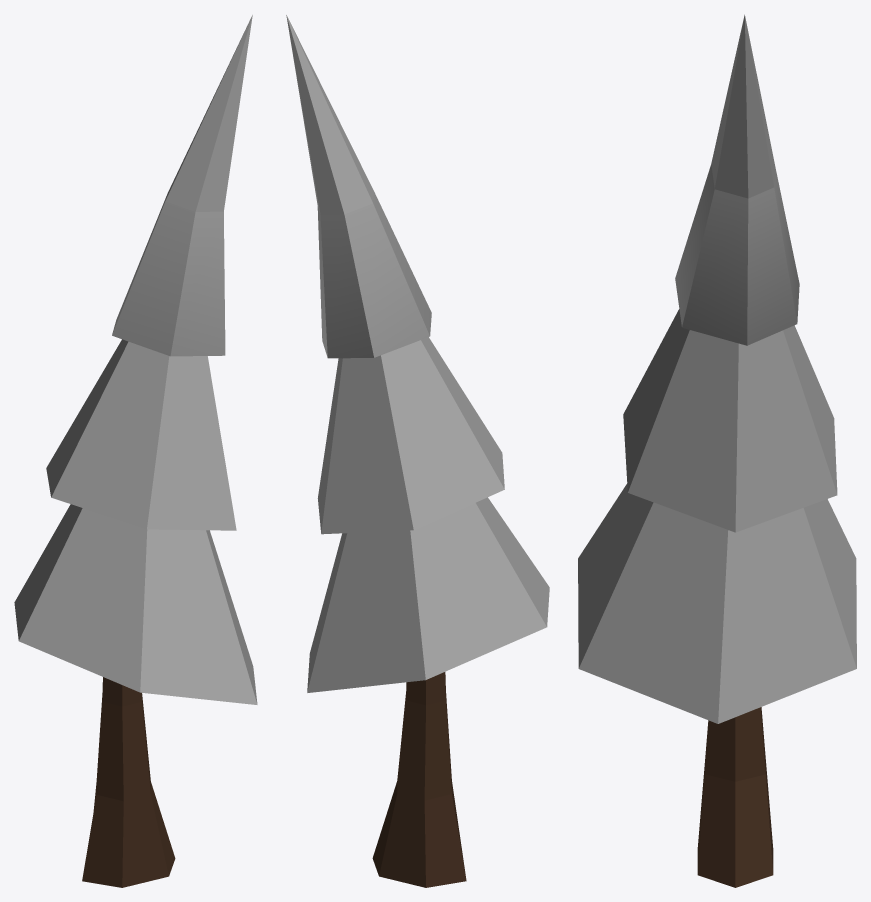
File: IDTree1.fbx
3 renders of one model, left to right at view 1: azimuth 30°, elevation 25°; view 2: azimuth 150°, elevation 25°; view 3: azimuth 270°, elevation 25°, orthographic. The views are drawn at different scales.
Parts seen in each view (by area): view 1: polySurface1; view 2: polySurface1; view 3: polySurface1.
Boxes of the visible parts, box(x1,y1,x2,y2) form: polySurface1: box(14, 15, 257, 887); polySurface1: box(286, 15, 549, 887); polySurface1: box(578, 14, 856, 887).
Bounding box in the file's own units: 347 × 1104 × 304.
